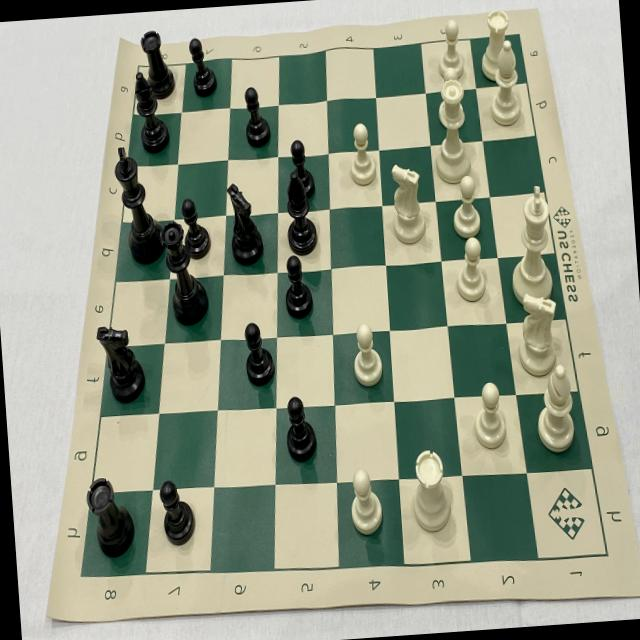black-bishop: (134, 72, 174, 156)
black-king: (110, 136, 166, 270)
black-knight: (94, 318, 150, 401), (226, 171, 270, 263), (282, 178, 326, 262)
black-pawn: (154, 470, 194, 545), (239, 314, 278, 390), (280, 255, 320, 328), (275, 388, 316, 458), (240, 84, 275, 149), (180, 196, 212, 261), (286, 137, 318, 197), (186, 40, 218, 99)
black-queen: (156, 231, 210, 333)
black-rook: (84, 466, 136, 560), (142, 32, 180, 98)
white-bishop: (480, 44, 529, 142), (534, 358, 585, 452)
white-king: (506, 188, 560, 306)
white-knight: (515, 284, 567, 381), (386, 156, 432, 249)
white-pawn: (446, 221, 492, 305), (348, 457, 394, 536), (437, 161, 479, 242), (342, 317, 386, 390), (468, 380, 506, 449), (430, 21, 469, 88), (346, 120, 381, 190), (434, 68, 464, 128)
white-queen: (424, 83, 476, 168)
white-rook: (404, 444, 454, 540), (474, 5, 522, 101)
